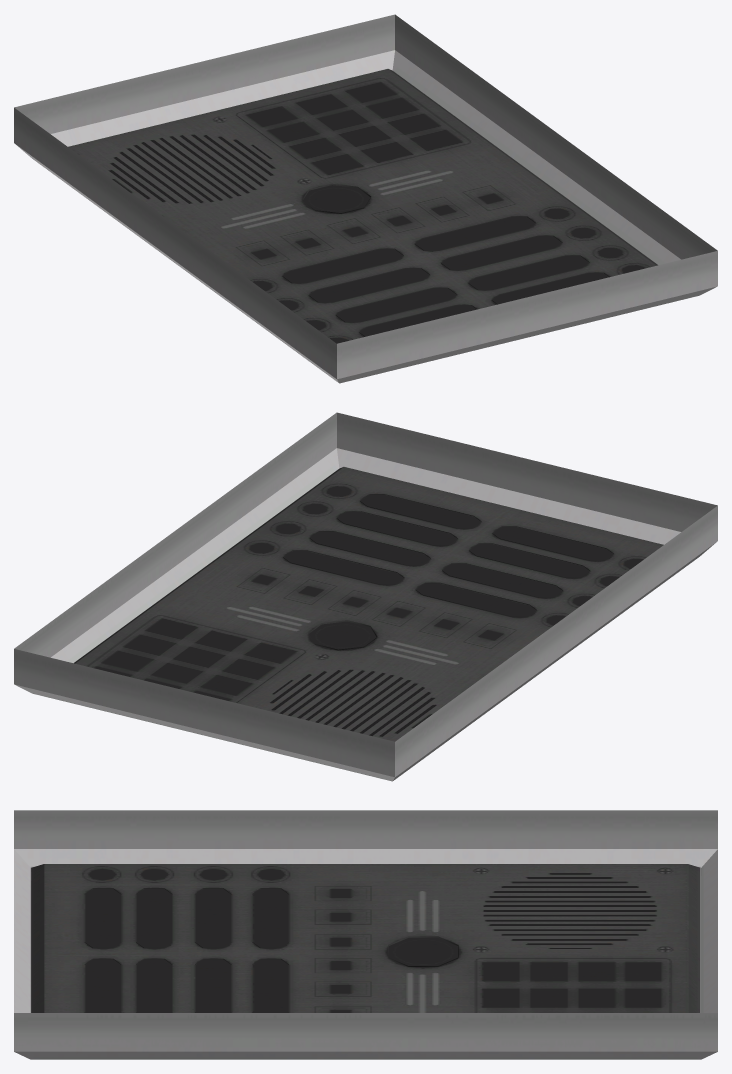
File: nt_intercom_LOD2.obj
The picture shows the model from 3 angles, top to bottom: view 1: azimuth 30°, elevation 25°; view 2: azimuth 150°, elevation 25°; view 3: azimuth 270°, elevation 25°; orthographic projection. The views are drawn at different scales.
Visible parts, largest first — view 1: mtl_nt_intercom; view 2: mtl_nt_intercom; view 3: mtl_nt_intercom.
Boxes of the visible parts, x1,y1,x2,y2 form: mtl_nt_intercom: (14,14,717,383); mtl_nt_intercom: (14,412,717,781); mtl_nt_intercom: (14,810,717,1059).
Size of the model in its own units: 31.7 by 4.09 by 46.51.
